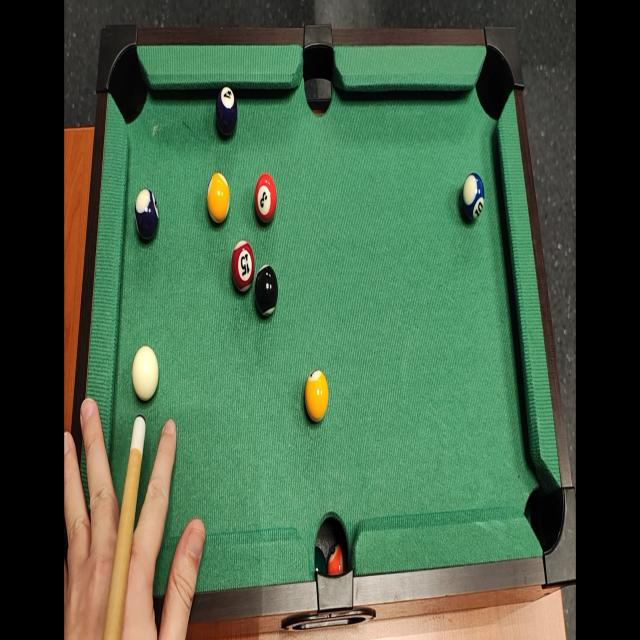cue ball: (131, 343, 163, 406)
other: (133, 185, 162, 248), (211, 78, 240, 138), (302, 366, 330, 424), (204, 172, 233, 226), (253, 263, 279, 321), (230, 238, 255, 296), (253, 169, 278, 225), (462, 171, 486, 226)
